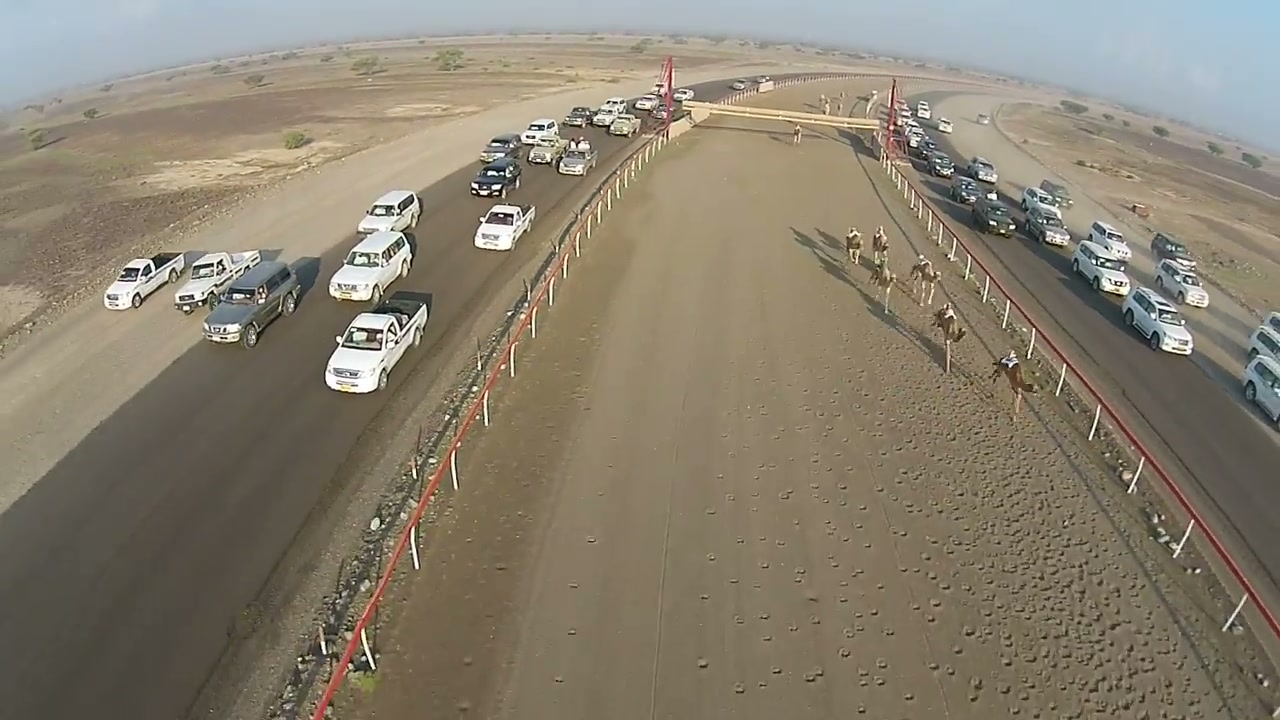animal_footprint: (844, 311, 1197, 715), (746, 424, 955, 719)
